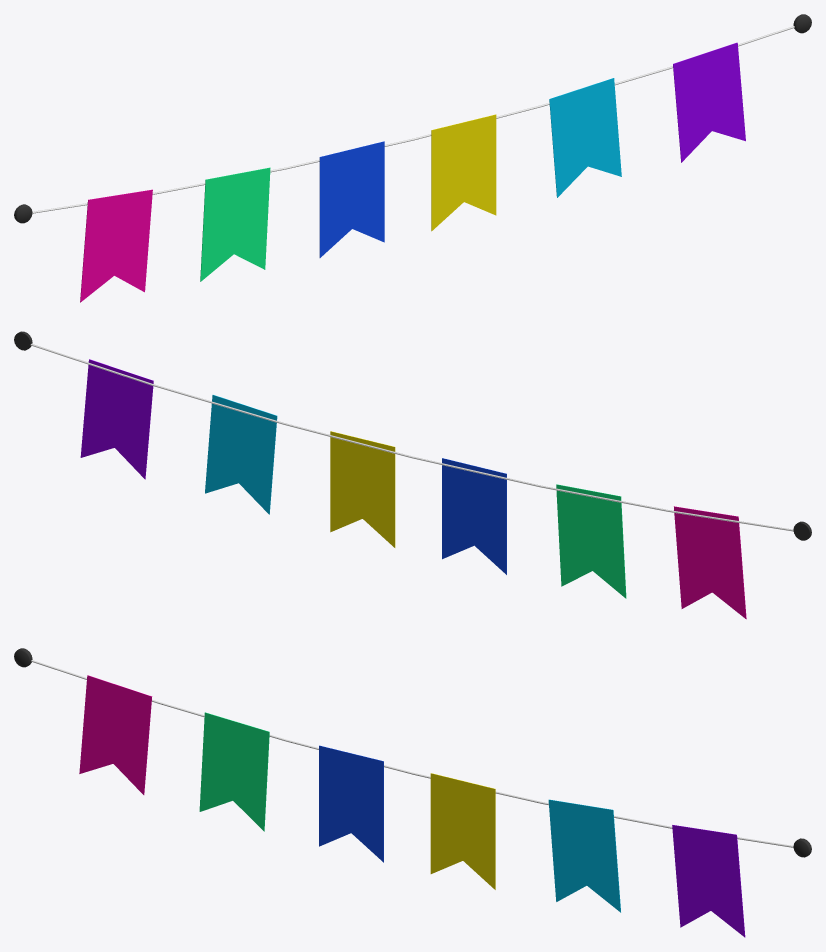
Rendered from PartyHangings01A_5.FBX.
3 renders of one model, top to bottom at view 1: azimuth 30°, elevation 25°; view 2: azimuth 150°, elevation 25°; view 3: azimuth 330°, elevation 25°, orthographic.
Parts seen in each view (by area): view 1: PartyHangings01A_5; view 2: PartyHangings01A_5; view 3: PartyHangings01A_5.
Boxes of the visible parts, x1,y1,x2,y2 form: PartyHangings01A_5: (14,14,811,302); PartyHangings01A_5: (14,331,811,619); PartyHangings01A_5: (14,648,811,937).
Size of what is drawn, in the model's own units: 1.31 by 0.198 by 0.00687.
